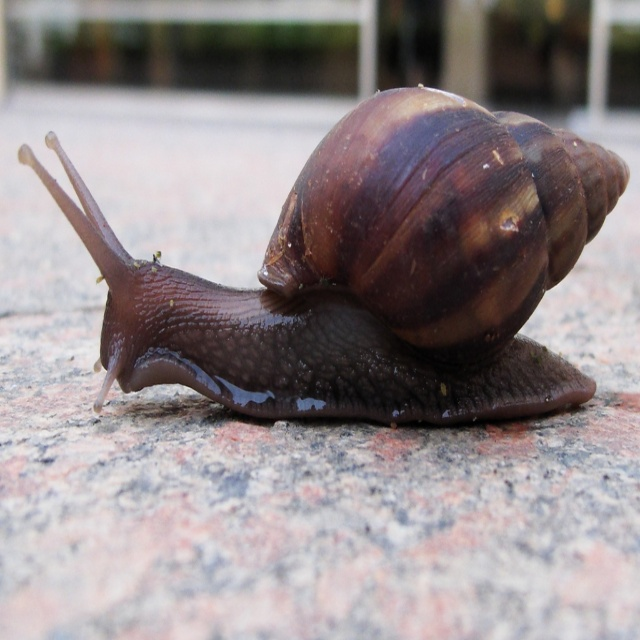Snail: (18, 83, 631, 426)
